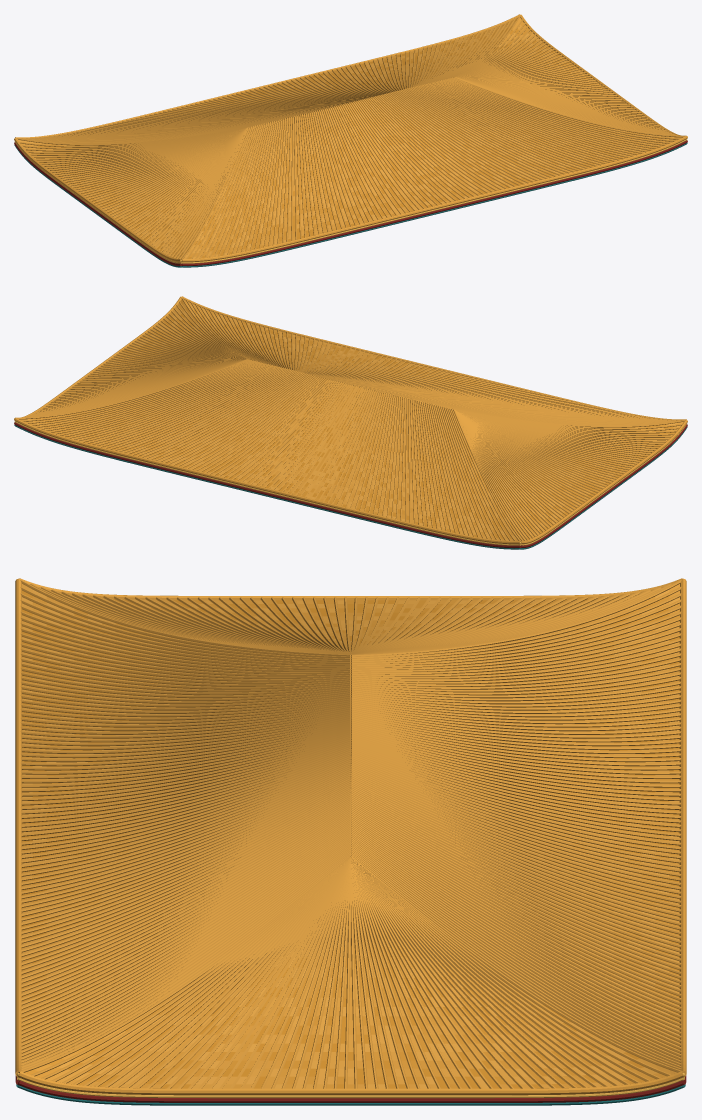
File: SM_20_Roof_Lower.fbx
The picture shows the model from 3 angles, top to bottom: view 1: azimuth 30°, elevation 25°; view 2: azimuth 150°, elevation 25°; view 3: azimuth 270°, elevation 25°; orthographic projection. The views are drawn at different scales.
Parts seen in each view (by area): view 1: Roof_Lower; view 2: Roof_Lower; view 3: Roof_Lower.
Part boxes in pixels (left/top/right/bottom): Roof_Lower: left=14, top=14, right=687, bottom=267; Roof_Lower: left=14, top=296, right=687, bottom=549; Roof_Lower: left=15, top=578, right=686, bottom=1105.
Size of the model in its own units: 5332 by 3052 by 520.
